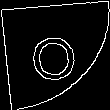O_N: (29, 28, 81, 82)
